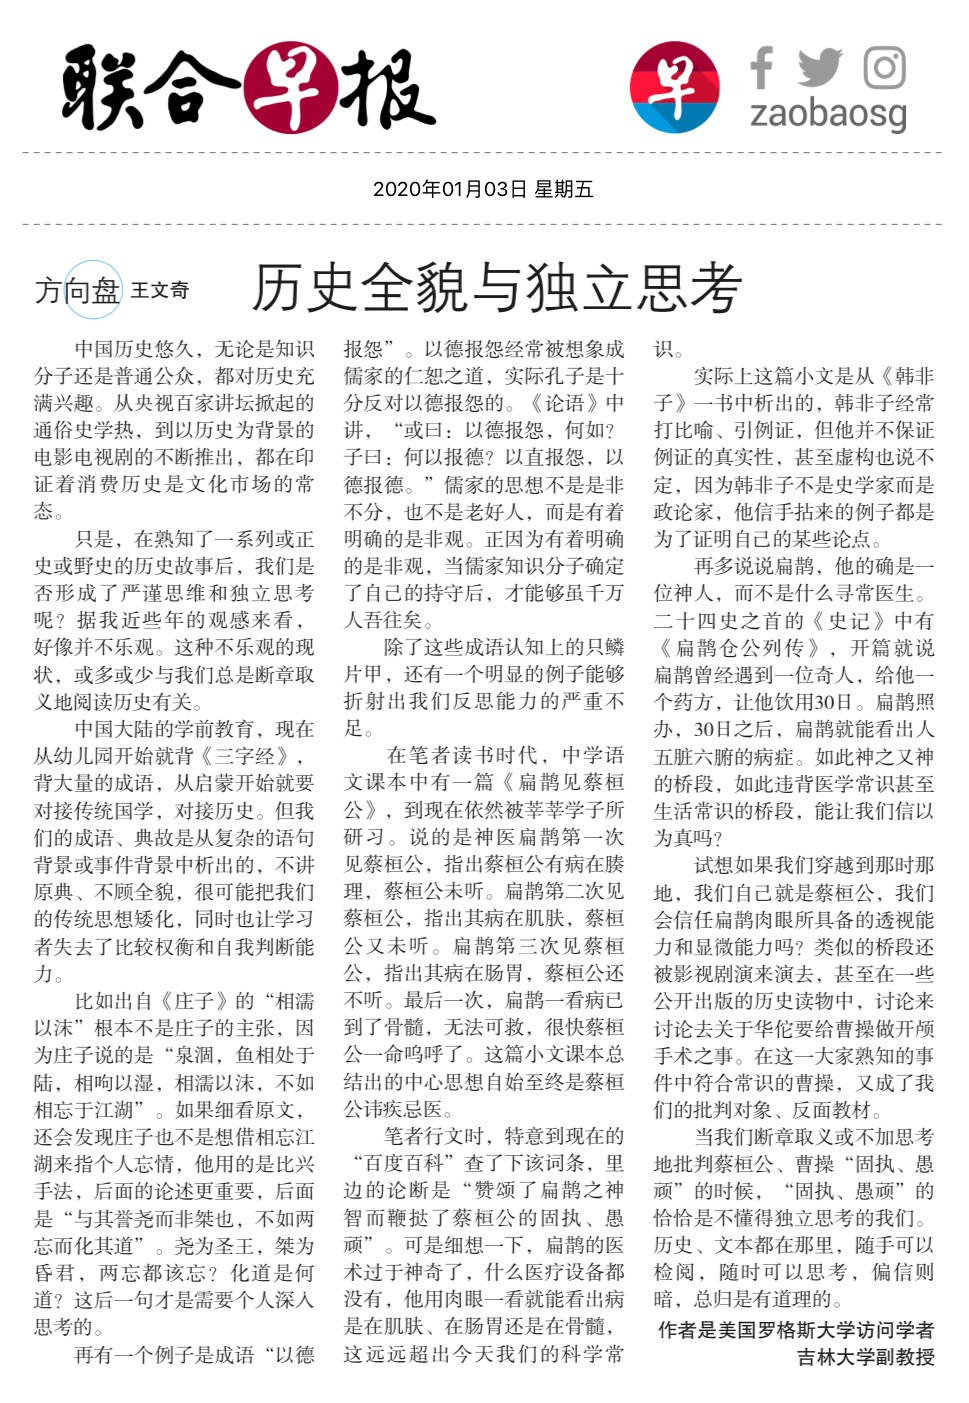heading: (251, 249, 748, 320)
